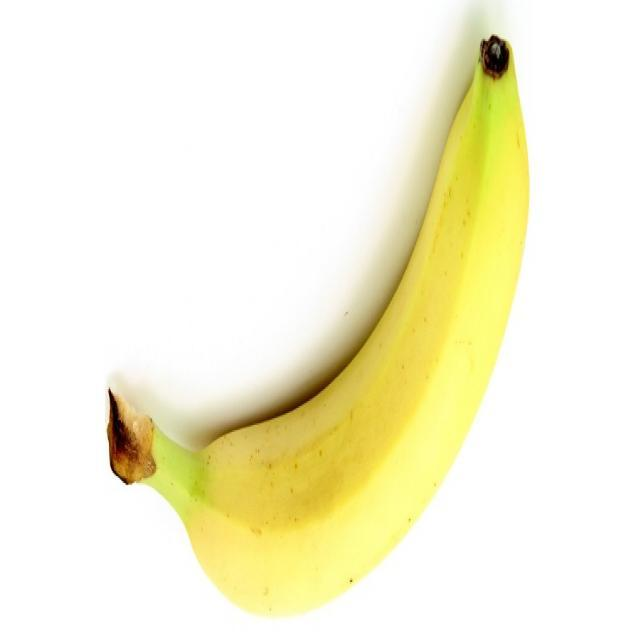Banana: (106, 35, 532, 622)
